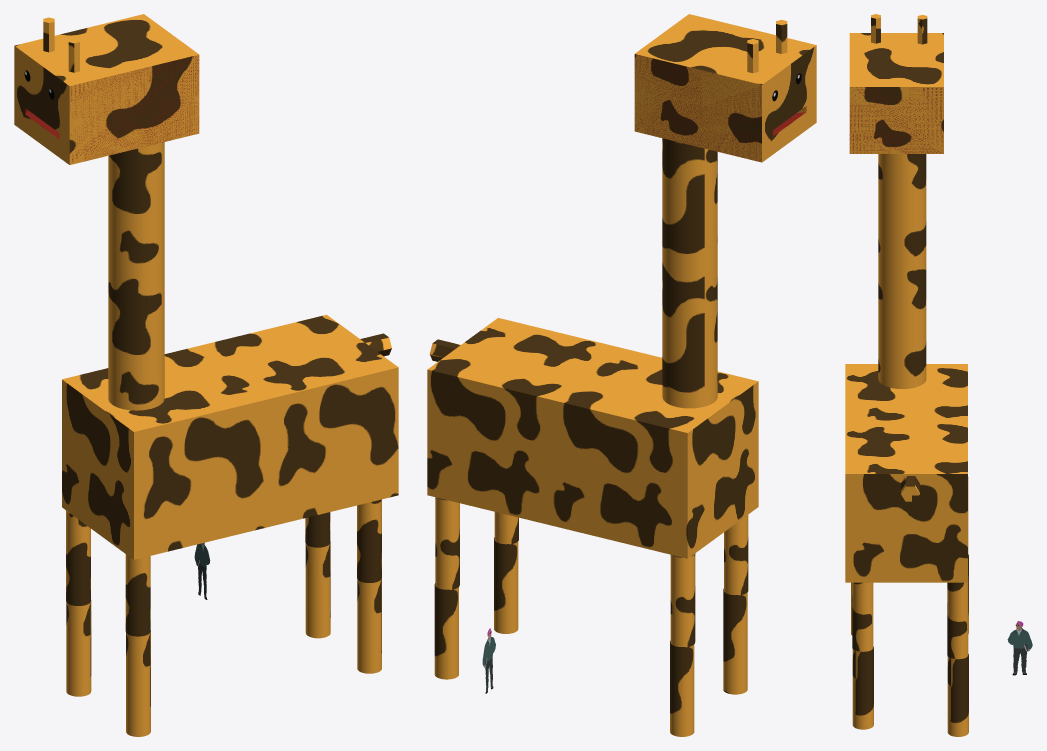
Rendered from giraffe2.dae.
3 views of the same model, side by side, from view 1: azimuth 30°, elevation 25°; view 2: azimuth 150°, elevation 25°; view 3: azimuth 270°, elevation 25° (orthographic). The views are drawn at different scales.
Visible parts, largest first — view 1: SketchUp (×12); view 2: SketchUp (×12); view 3: SketchUp (×9), Steve.
Part boxes in pixels (left/top/right/bottom): SketchUp (×12): left=14, top=14, right=398, bottom=736; SketchUp (×12): left=427, top=14, right=816, bottom=736; SketchUp (×9): left=845, top=33, right=968, bottom=736; Steve: left=1007, top=630, right=1032, bottom=649.
Size of the model in its own units: 387 by 209 by 732.
13 materials, 1 textured.
